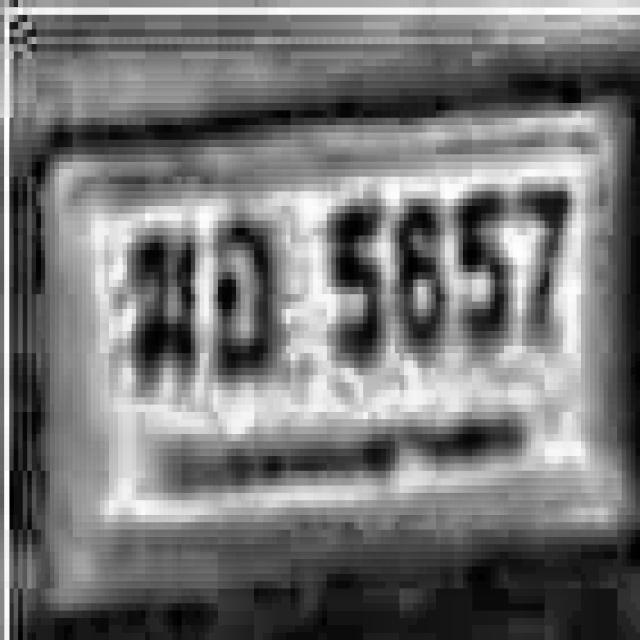license-plate: (22, 95, 640, 581)
